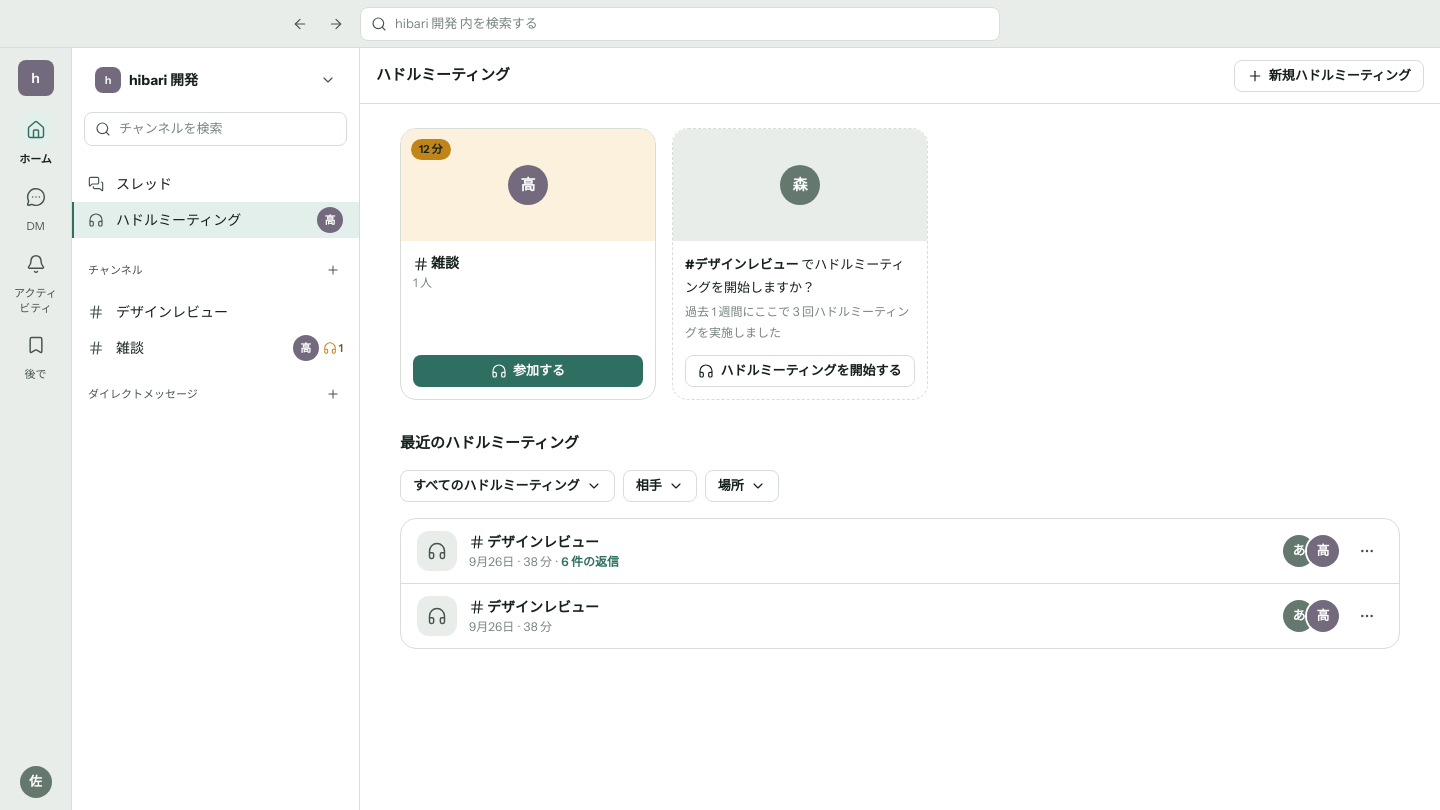
Test: ハドルの一覧（ADR 0067 決定 6〜8） › 「新規ハドルミーティング」でチャンネルを選ぶと、参加前のプレビューを出す
Check: the list named "最近のハドルミーティング" is shown, box [400,518,1400,649]
Click the button "新規ハドルミーティング" at {"x": 1329, "y": 76}, box [1234,60,1424,92]
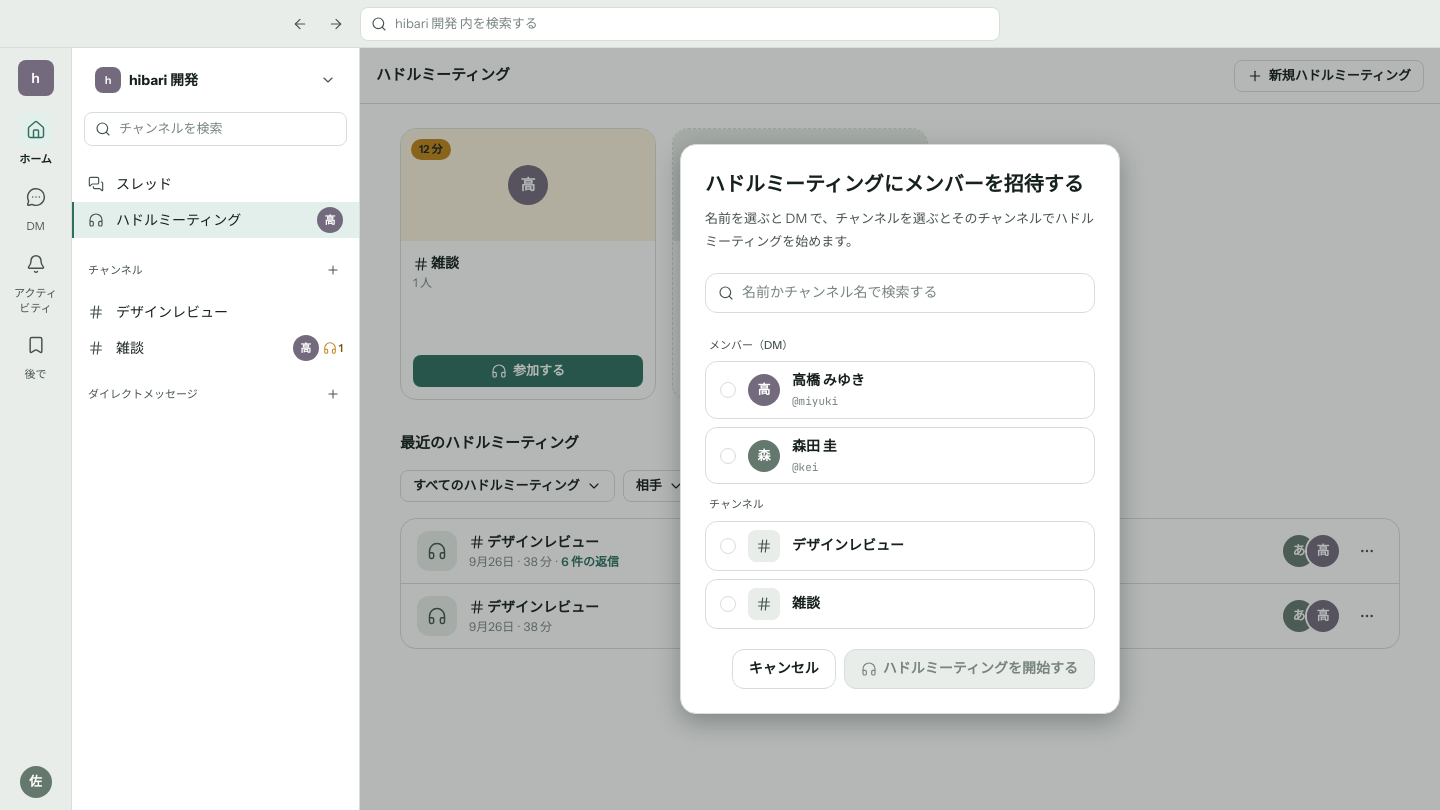
Type "デザ" into the search field with placeholder "名前かチャンネル名で検索する" at {"x": 912, "y": 293}, box [742,282,1082,303]
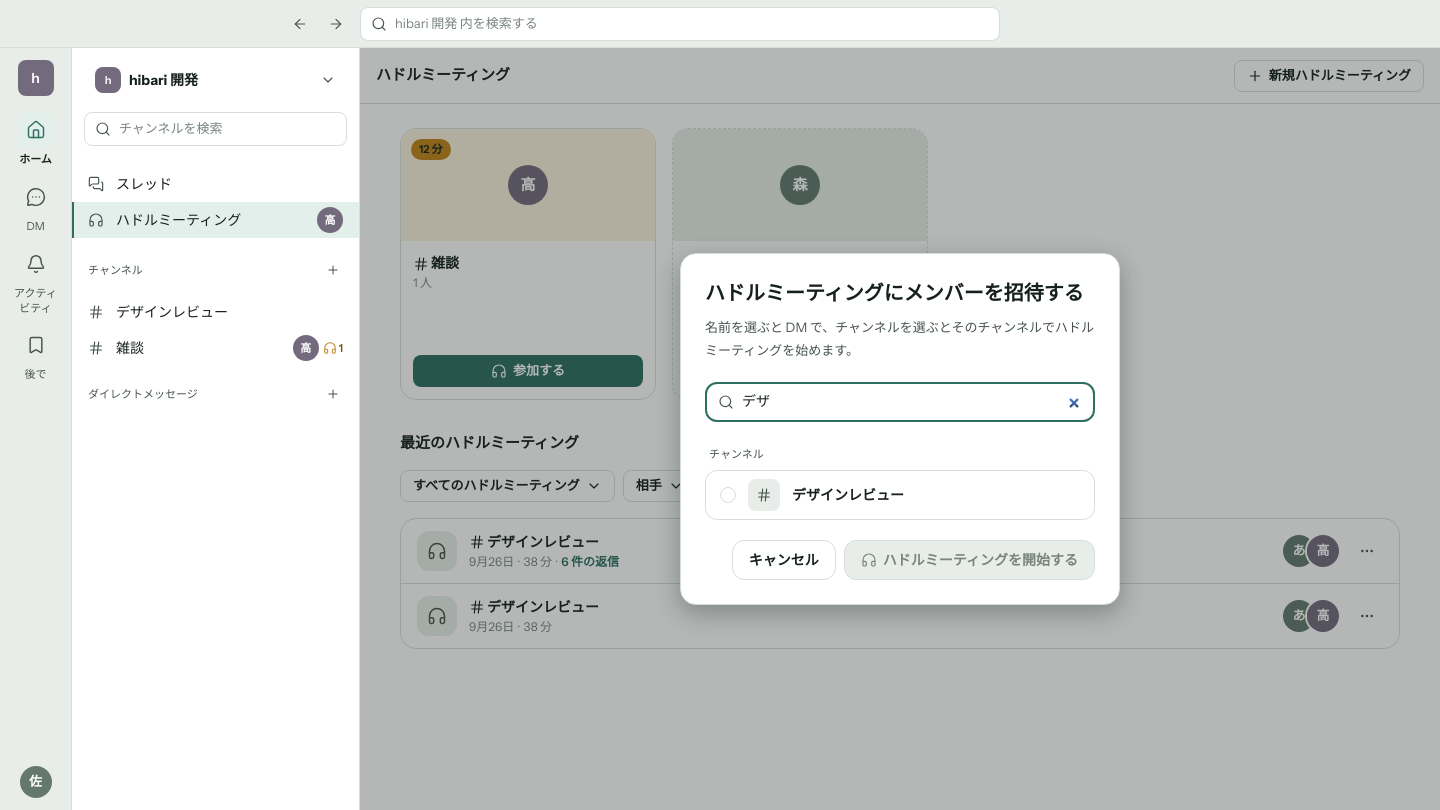
Click the radio button labelled "デザインレビュー" at {"x": 900, "y": 495}, box [705,470,1095,520]
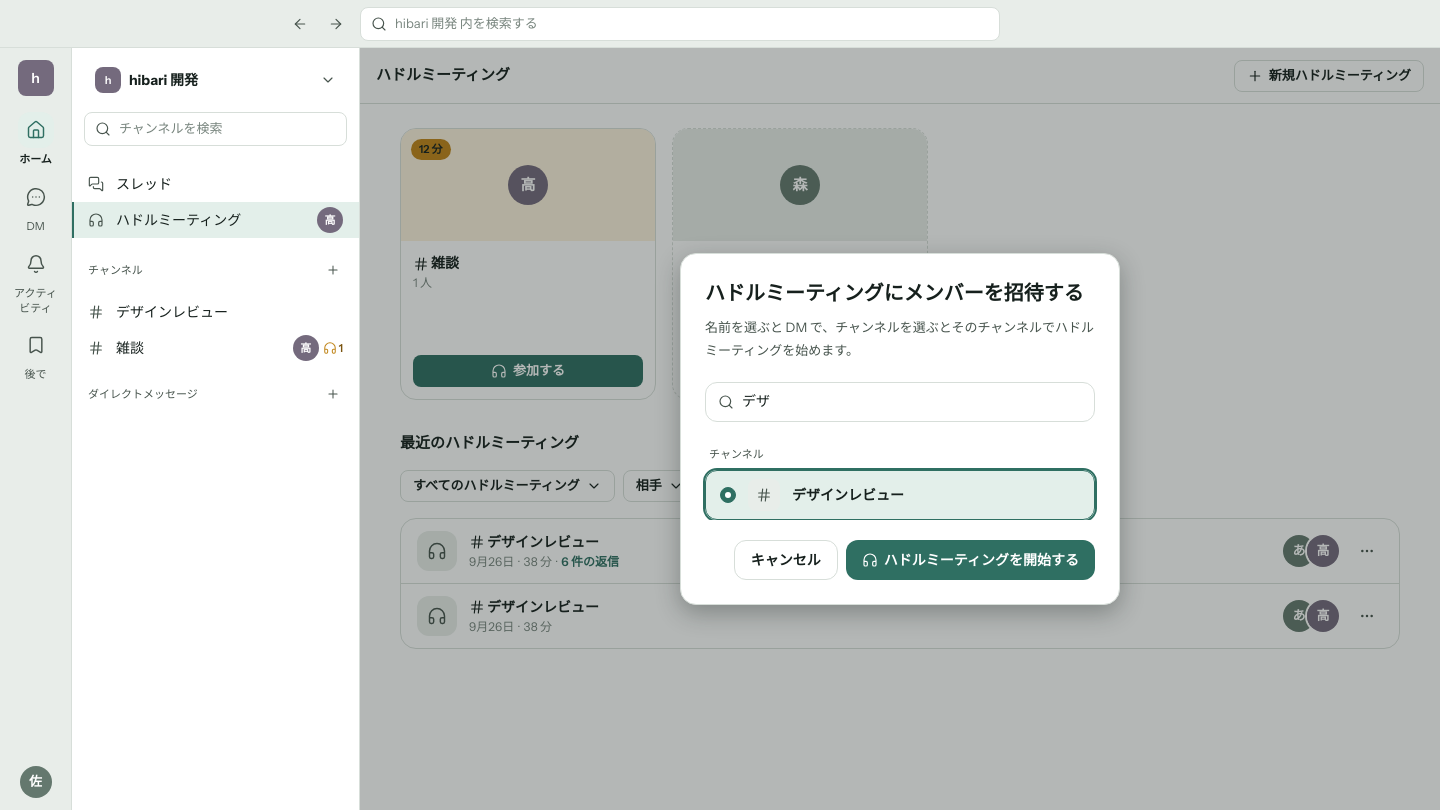
Click the button "ハドルミーティングを開始する" at {"x": 970, "y": 560}, box [846,540,1095,580]
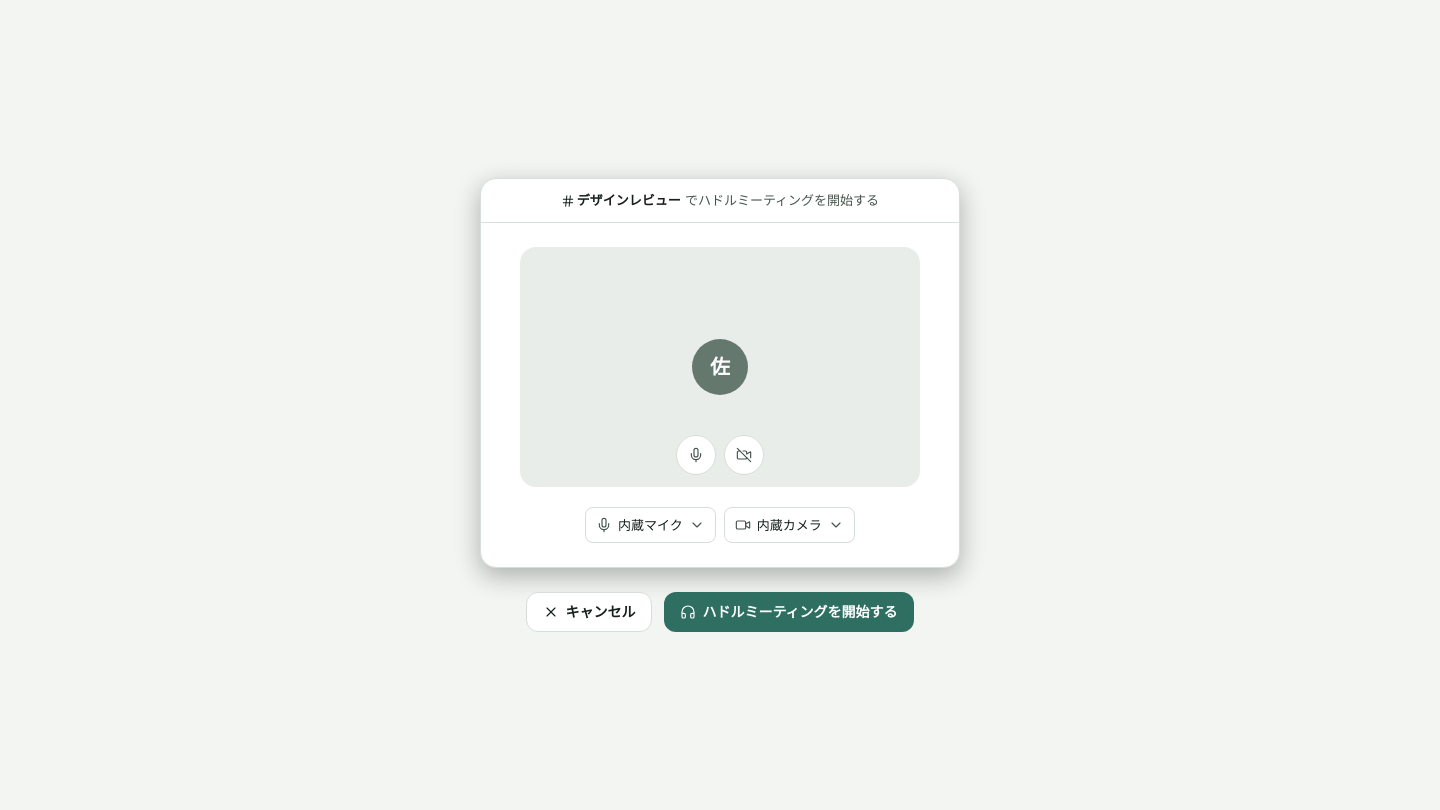
Check: the heading shows "デザインレビュー", box [577,192,681,208]
